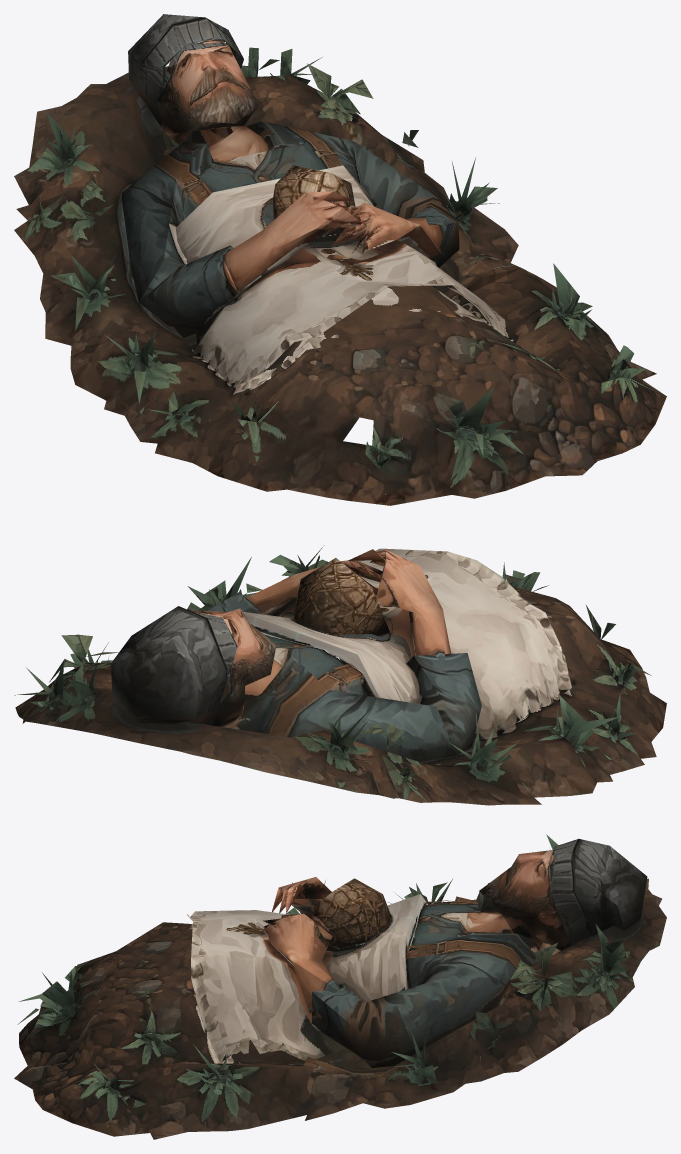
Rendered from act1_extras_v1_sleeper_fisherman.glb.
3 renders of one model, top to bottom at view 1: azimuth 30°, elevation 25°; view 2: azimuth 150°, elevation 25°; view 3: azimuth 270°, elevation 25°, orthographic. The views are drawn at different scales.
Visible parts, largest first — view 1: A20_3_sleeper_fisherman; view 2: A20_3_sleeper_fisherman; view 3: A20_3_sleeper_fisherman.
Part boxes in pixels (x1,y1,x2,y2): A20_3_sleeper_fisherman: (14, 14, 666, 505); A20_3_sleeper_fisherman: (14, 545, 666, 805); A20_3_sleeper_fisherman: (14, 834, 666, 1139).
Size of the model in its own units: 0.7139 by 0.3394 by 0.9766.
Materials: 1 (1 with a texture image).
